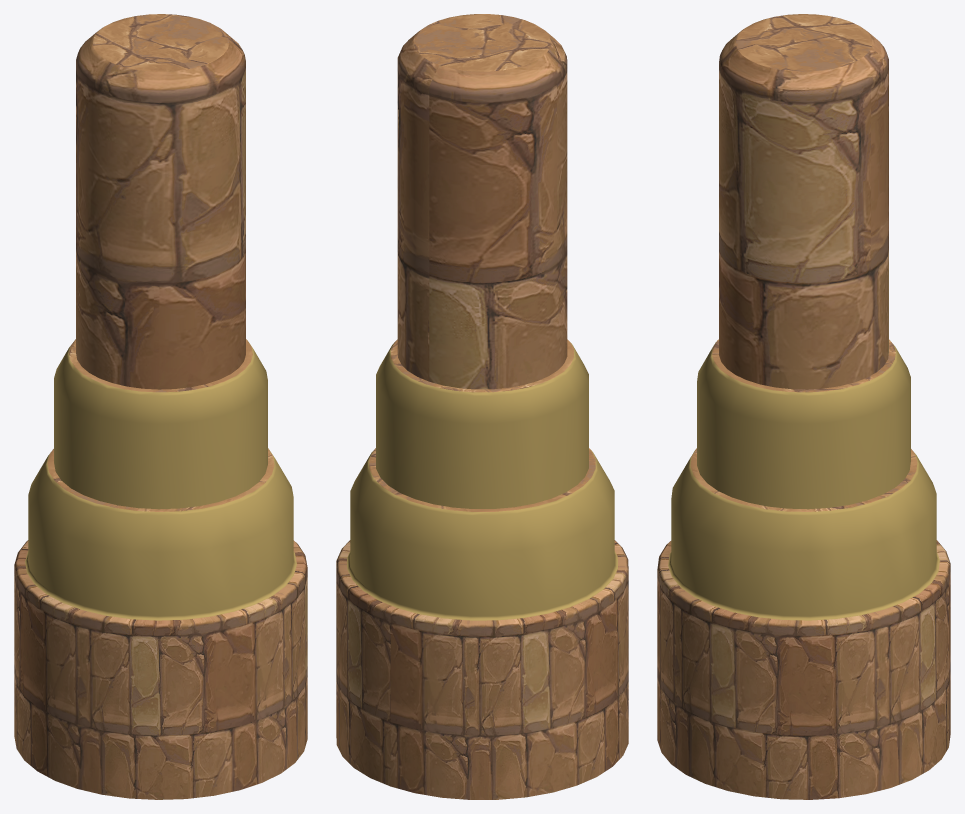
File: Pillar(short).fbx
The picture shows the model from 3 angles, left to right: view 1: azimuth 30°, elevation 25°; view 2: azimuth 150°, elevation 25°; view 3: azimuth 270°, elevation 25°; orthographic projection.
Parts seen in each view (by area): view 1: Colonne.002; view 2: Colonne.002; view 3: Colonne.002.
Boxes of the visible parts, x1,y1,x2,y2 form: Colonne.002: (14,14,307,799); Colonne.002: (336,14,628,799); Colonne.002: (657,14,950,799).
Bounding box in the file's own units: 896 × 2344 × 896.
